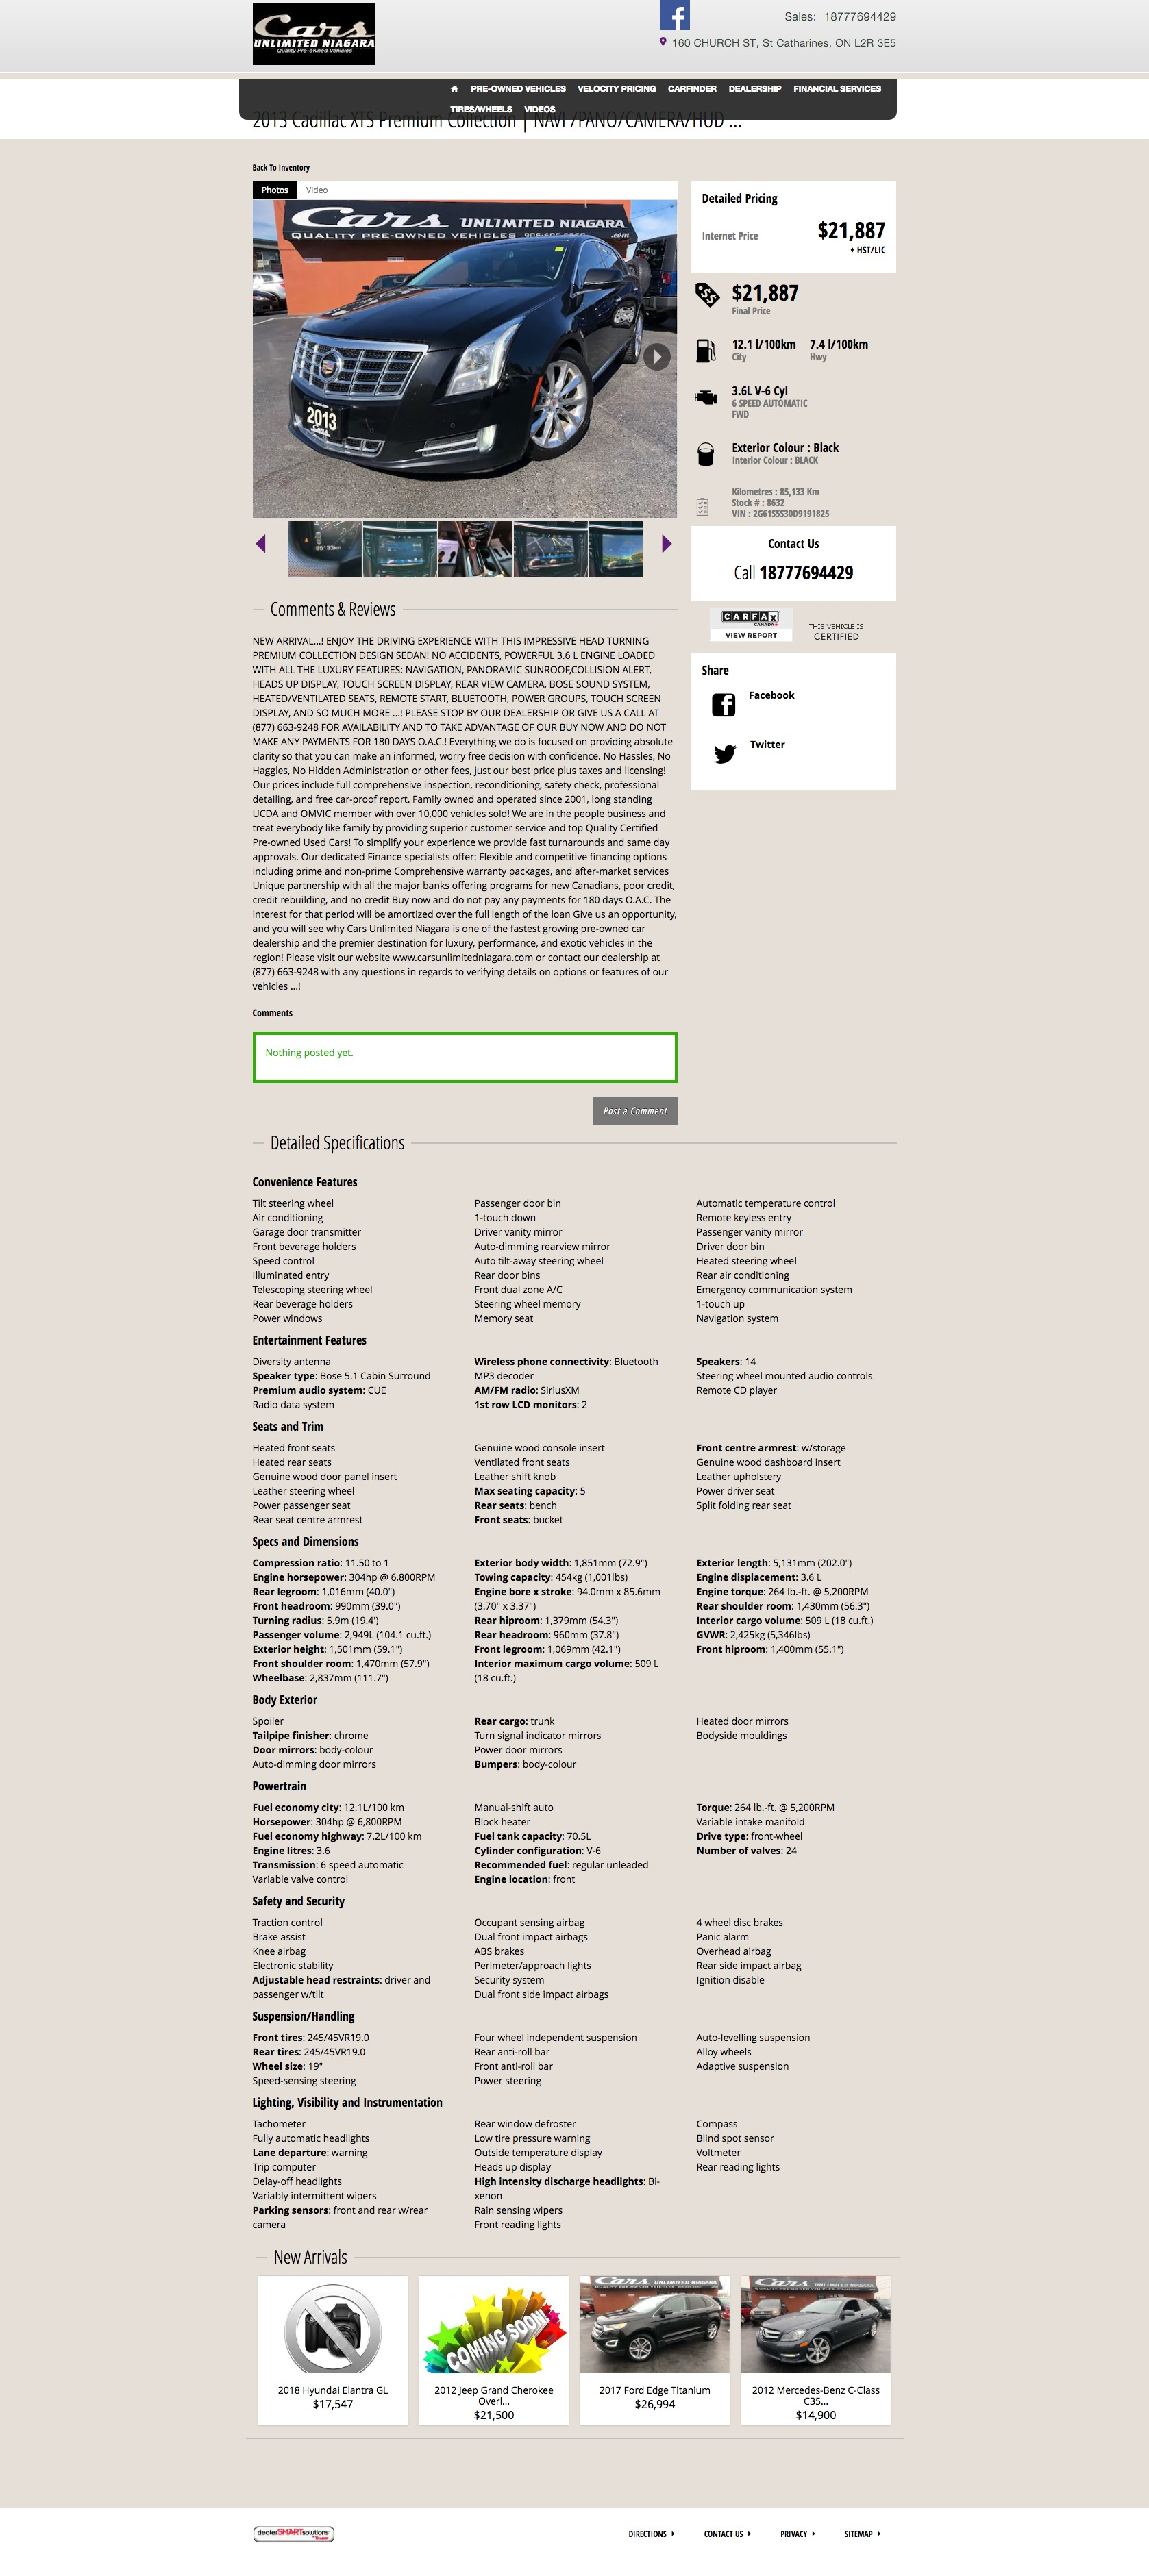car: (661, 534, 674, 555)
